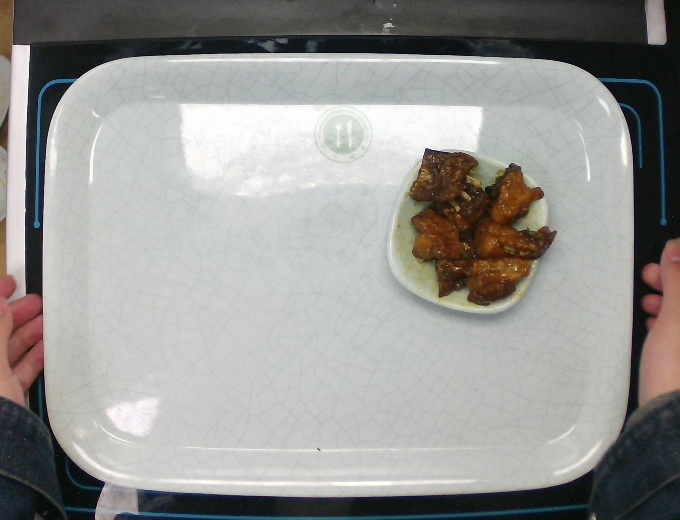JYsf-Si_Fang_Die: (387, 149, 553, 321)
